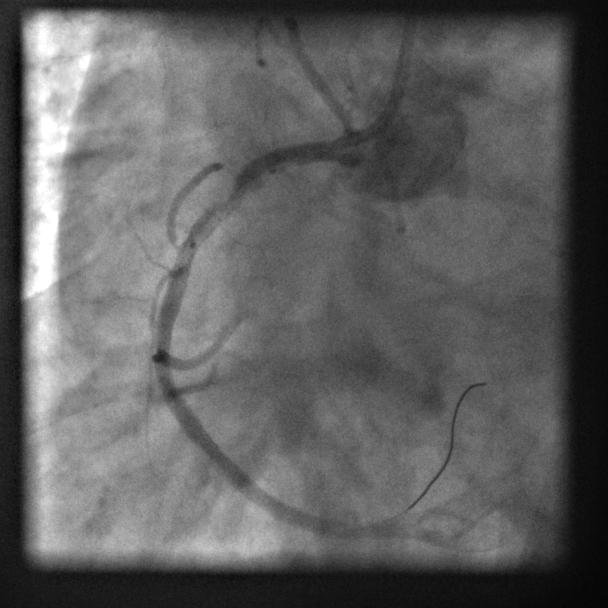Stenosis: (210, 173, 246, 227)
